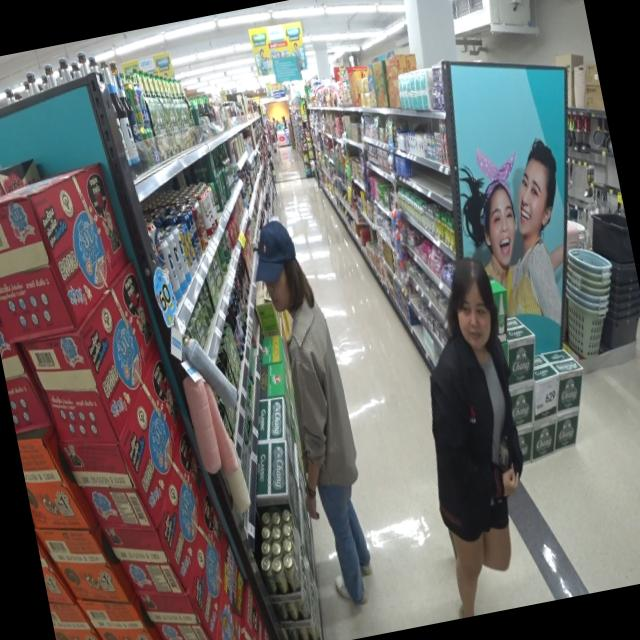shoplifting: (398, 255, 556, 618)
